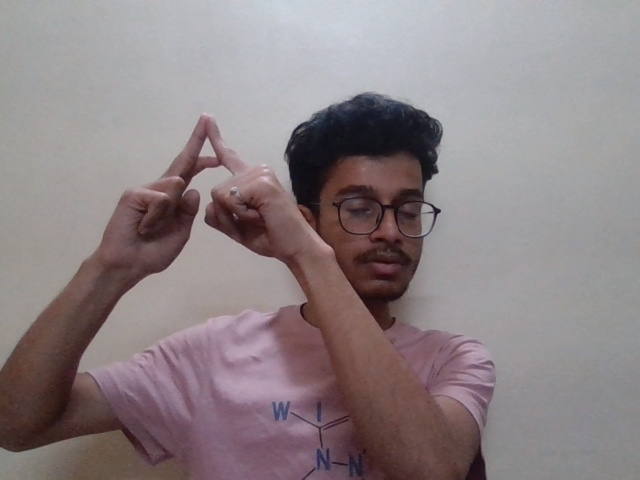A: (69, 94, 348, 286)
